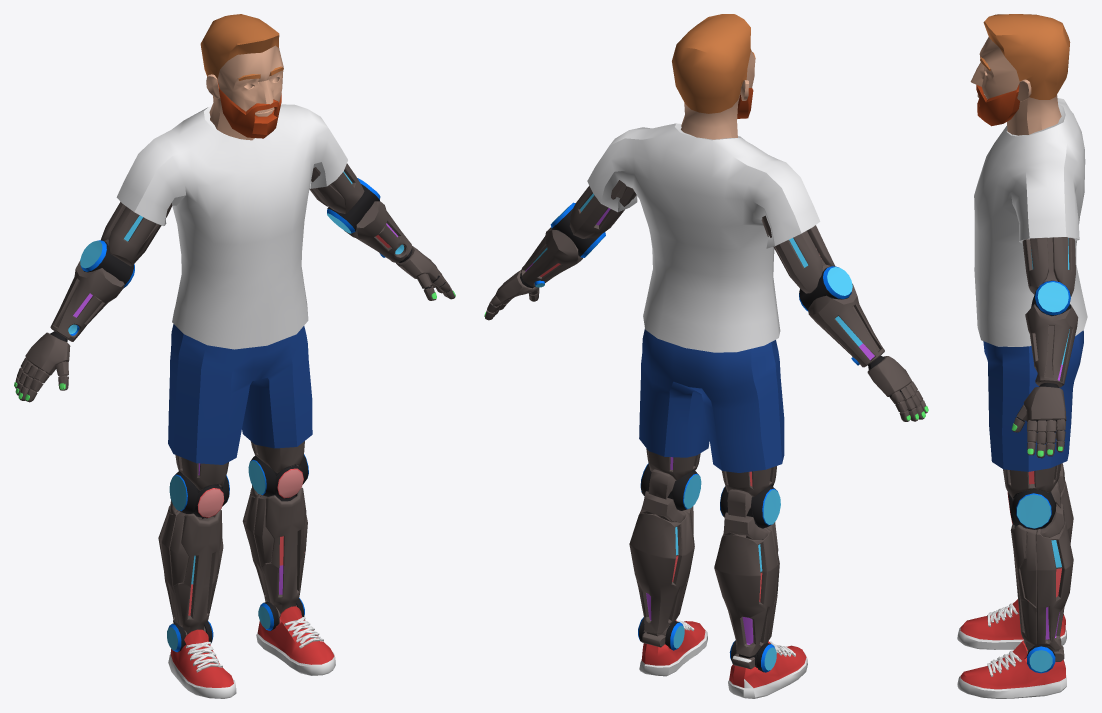
File: p4rk0ur_unit.glb
3 views of the same model, side by side, from view 1: azimuth 30°, elevation 25°; view 2: azimuth 150°, elevation 25°; view 3: azimuth 270°, elevation 25° (orthographic).
Bounding box in the file's own units: 1.23 × 1.75 × 0.3189.
1 material, 1 textured.
